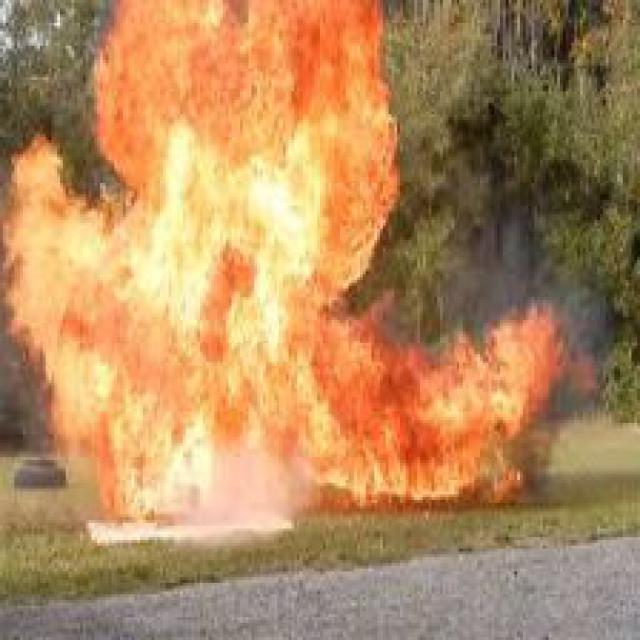fire: (3, 3, 566, 537)
